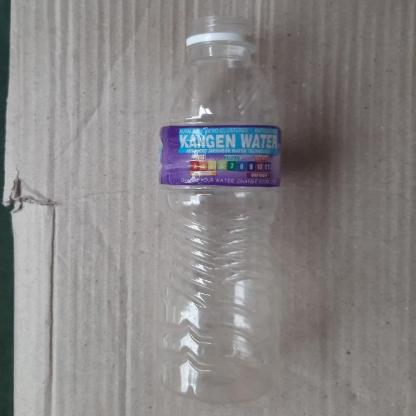Plastic Bottle: (158, 16, 284, 406)
